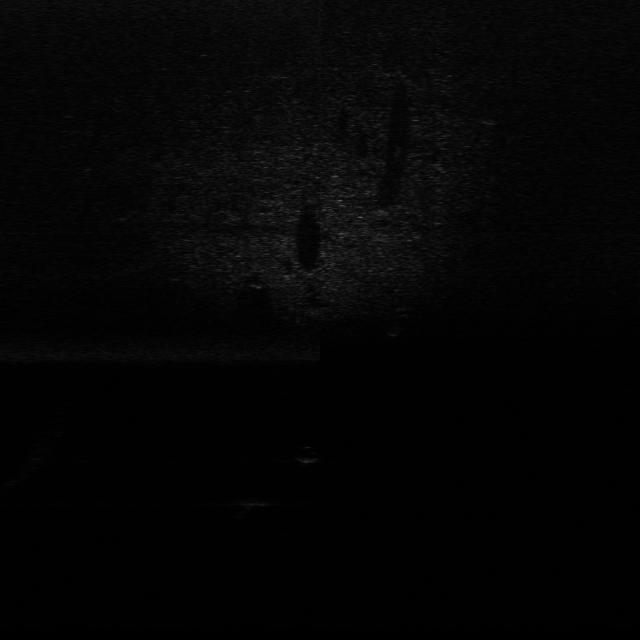ball: (292, 444, 327, 468)
square cage: (233, 497, 278, 513)
tyre: (388, 302, 417, 338)
